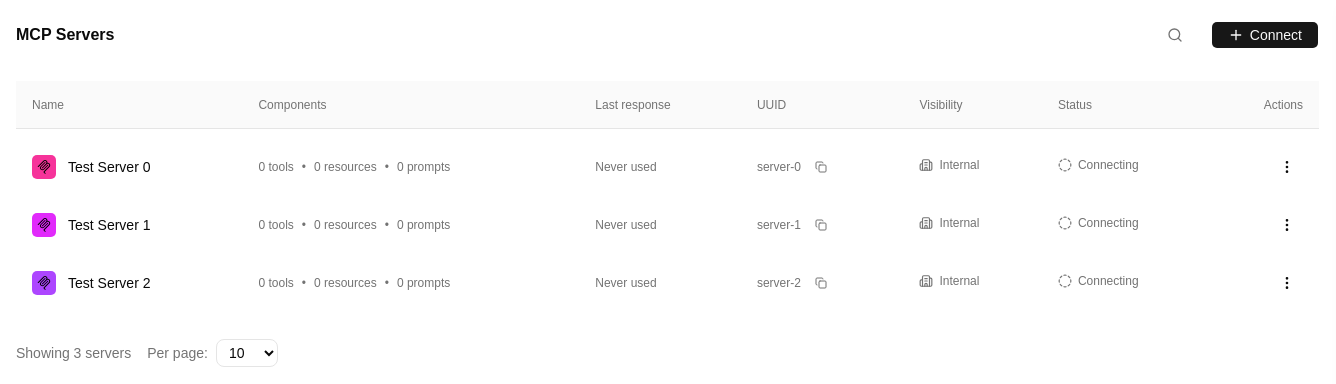
Test case: Servers › filters the loaded servers with the search box
Expected: the text "Test Server 0" is shown, [68,157,150,177]
Expected: the text "Test Server 1" is shown, [68,215,150,235]
Type "Server 0" into the search field named "Search MCP Servers" at (1239, 35), box [1159,19,1319,51]
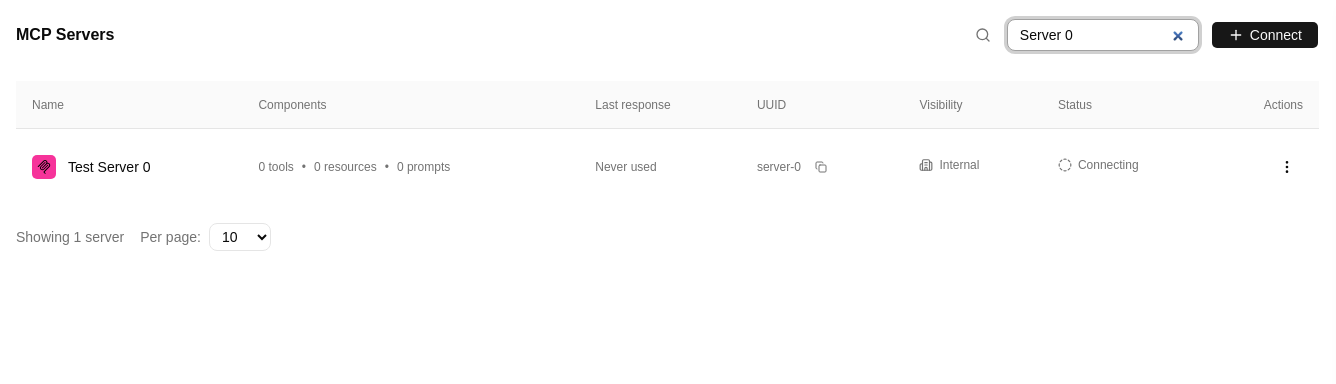
Expected: the text "Test Server 0" is shown, [68,157,150,177]
Expected: the text "Test Server 1" is gone
Replace the text in the search field named "Search MCP Servers" with "zzz-none" at (1103, 35), box [1007,19,1199,51]
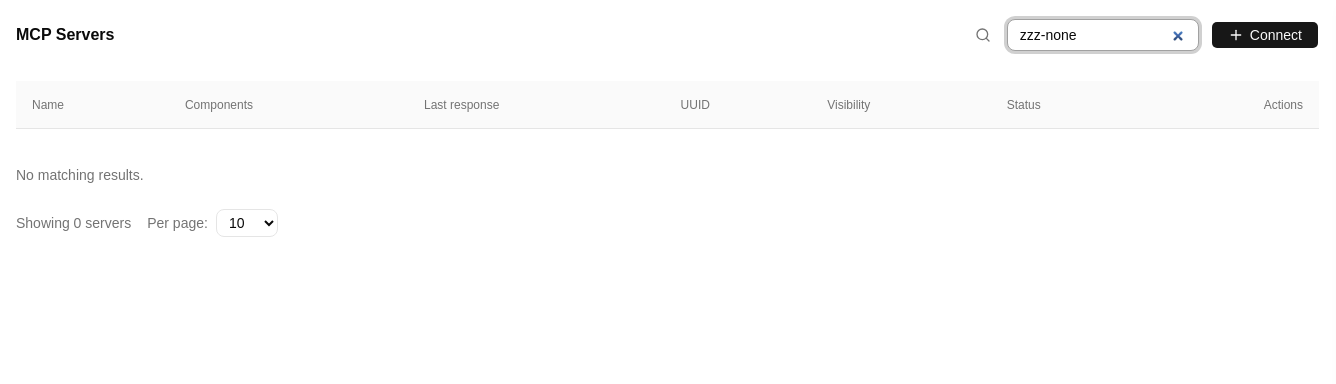
Expected: the text "No matching results." is shown, [16,167,144,183]
